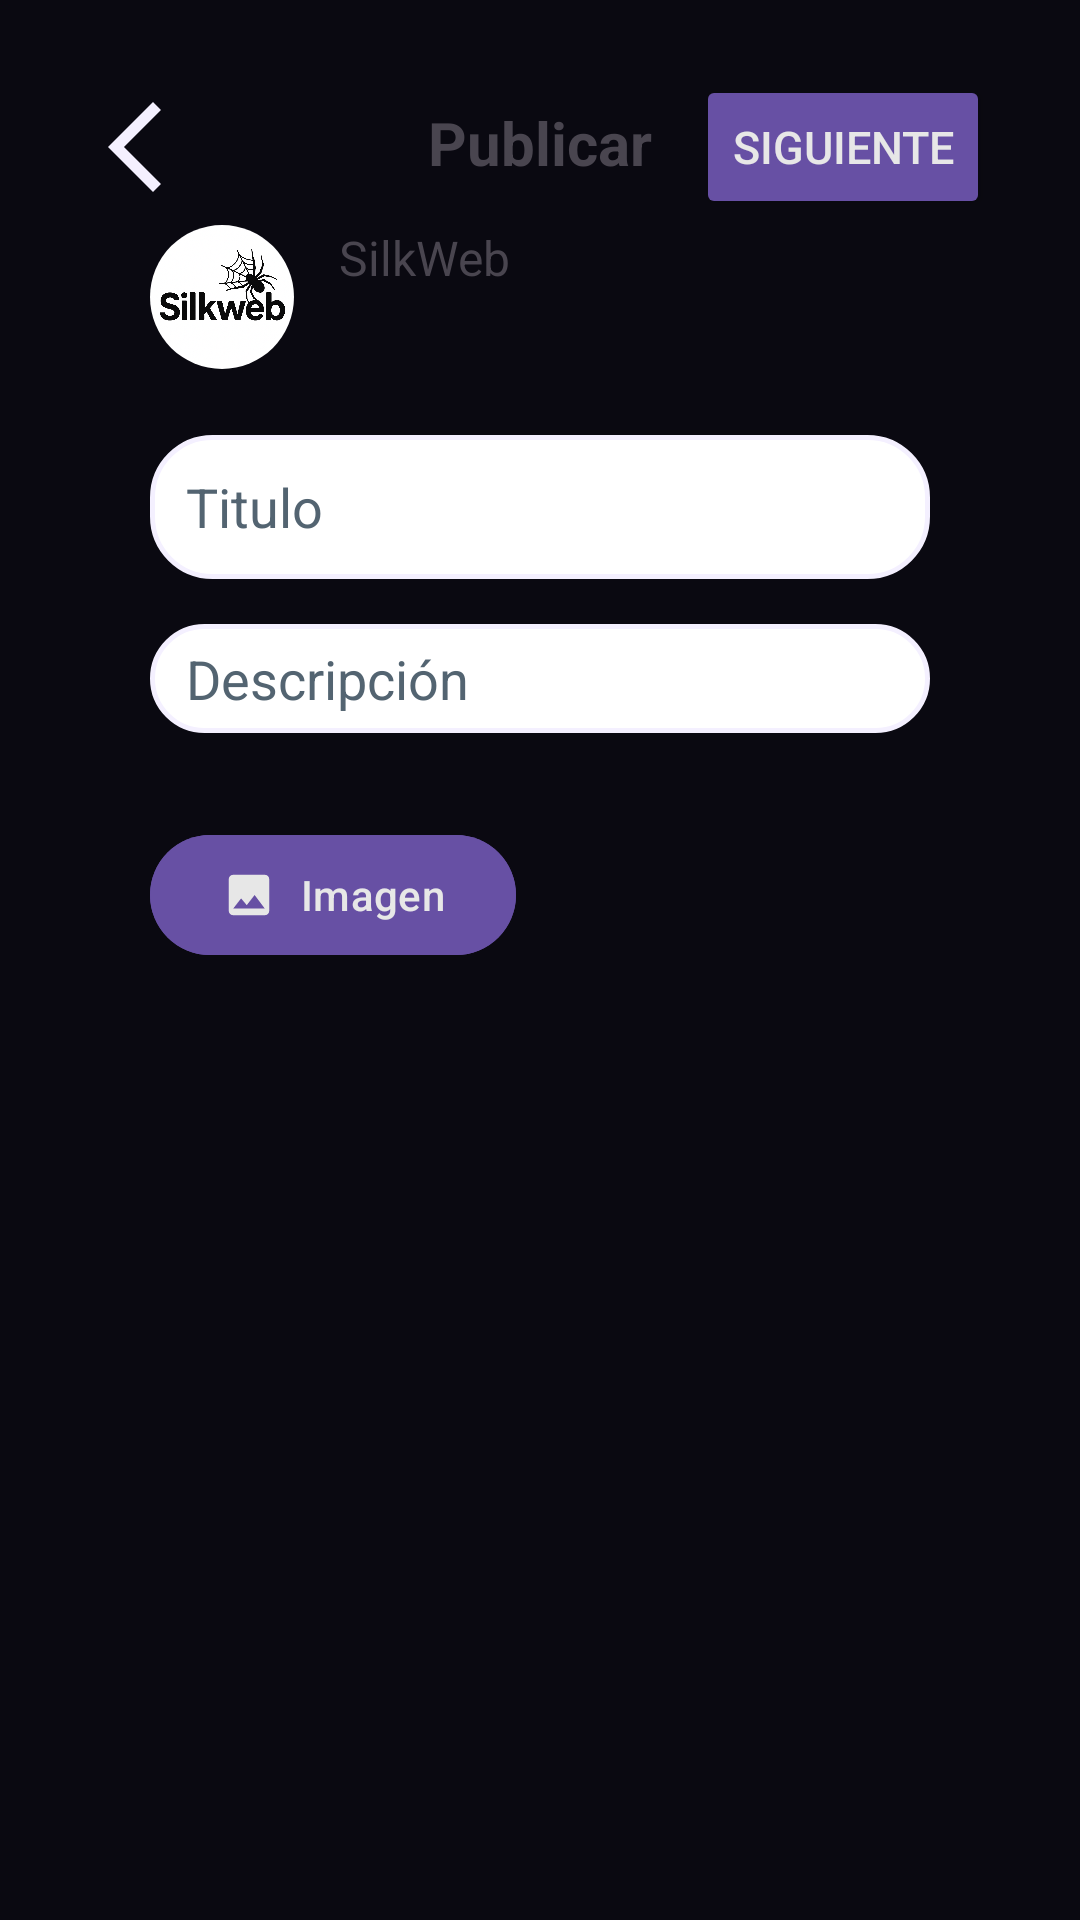

Named icons in this screenshot (1080px×1920px) and their bounding boxes, bbox=(x1, y1, x2, y2):
Regresar: bbox=(108, 102, 161, 192)
